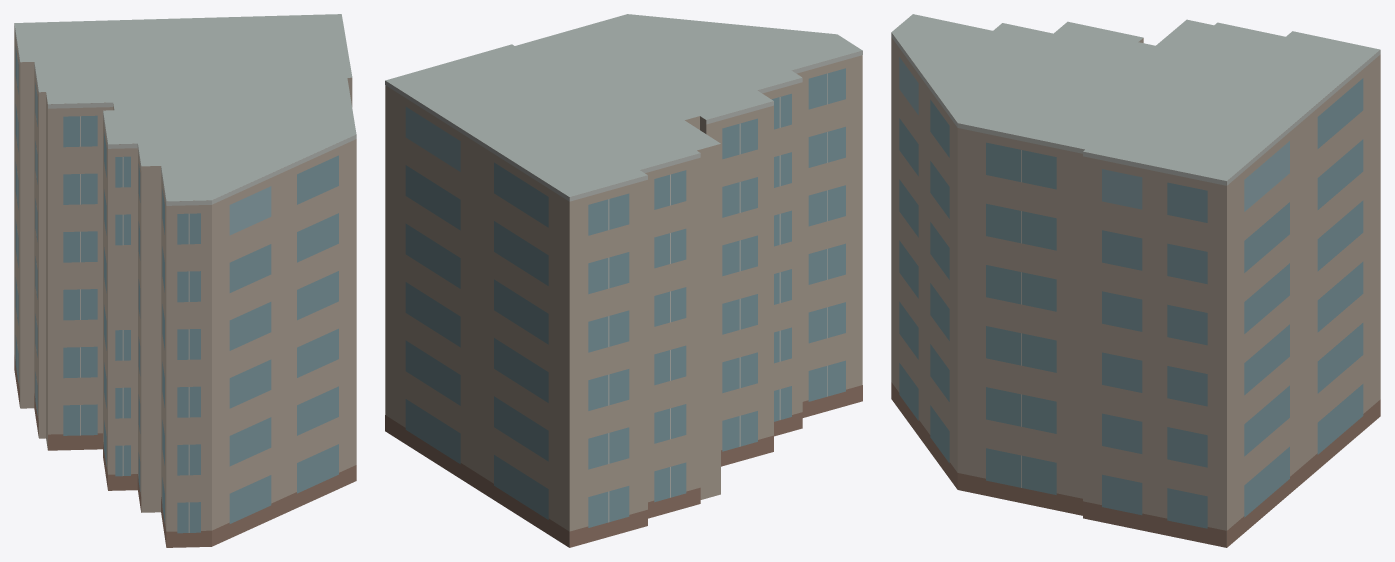
Rendered from survey-upis-33004014.glb.
3 renders of one model, left to right at view 1: azimuth 30°, elevation 25°; view 2: azimuth 150°, elevation 25°; view 3: azimuth 270°, elevation 25°, orthographic. The views are drawn at different scales.
Parts seen in each view (by area): view 1: survey-upis-33004014.tmp; view 2: survey-upis-33004014.tmp; view 3: survey-upis-33004014.tmp.
Boxes of the visible parts, left/top/right/bottom form: survey-upis-33004014.tmp: left=14, top=14, right=356, bottom=547; survey-upis-33004014.tmp: left=385, top=14, right=862, bottom=547; survey-upis-33004014.tmp: left=891, top=14, right=1380, bottom=547.
Bounding box in the file's own units: 18.38 × 18.8 × 22.73.
